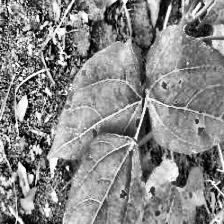ALS: (56, 54, 142, 158), (147, 34, 224, 146), (136, 165, 205, 224), (107, 178, 134, 219)
